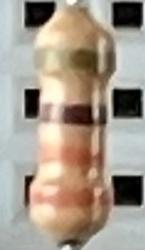Brown: (39, 100, 108, 124)
Orange: (26, 187, 113, 208), (39, 142, 105, 165)
Side-Silver: (36, 49, 116, 74)
